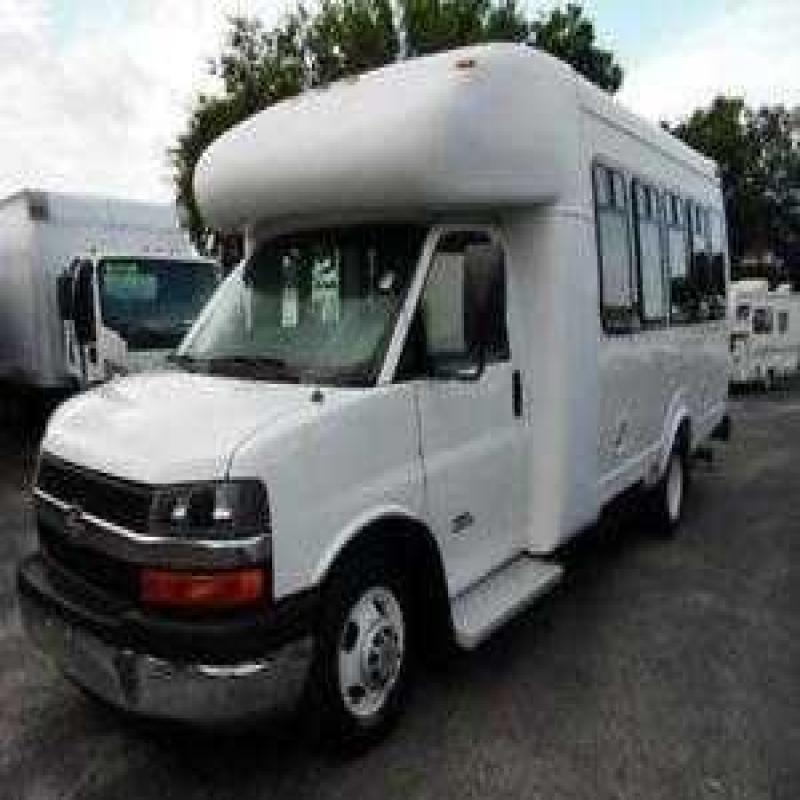bus: (30, 16, 728, 787)
